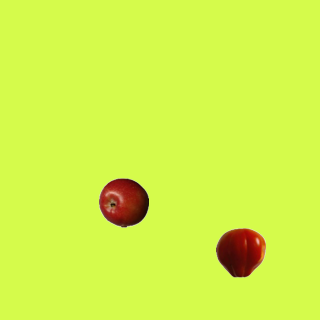Apple Braeburn: (98, 177, 148, 227)
Tomato 1: (215, 227, 265, 277)
